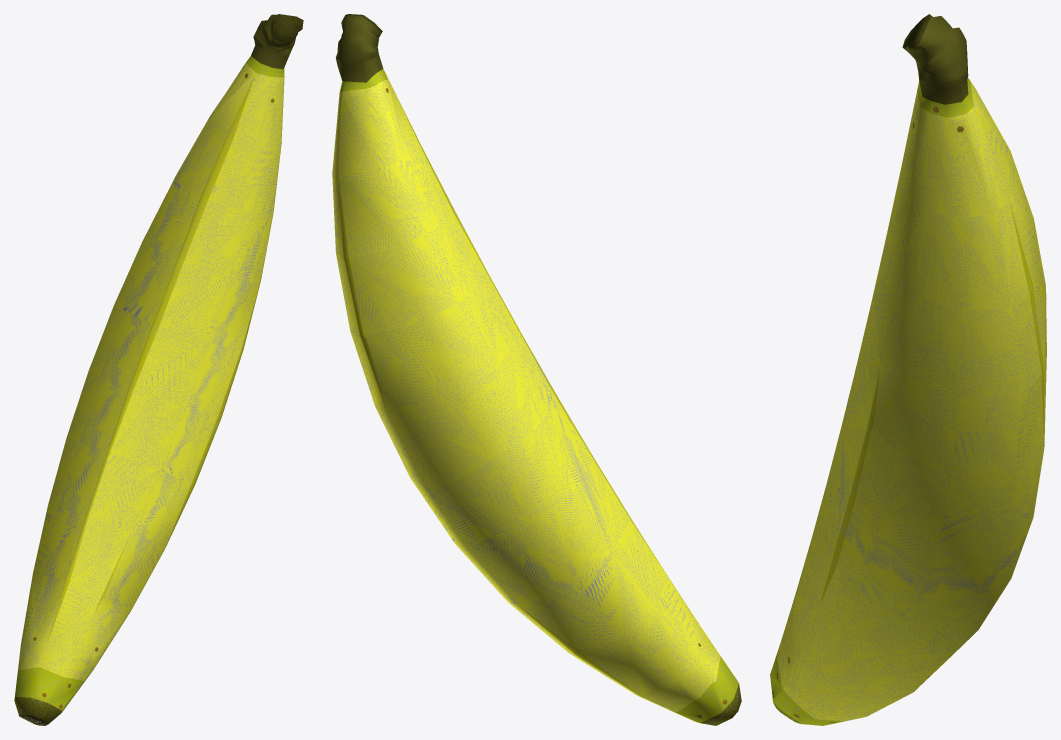
The picture shows the model from 3 angles, left to right: view 1: azimuth 30°, elevation 25°; view 2: azimuth 150°, elevation 25°; view 3: azimuth 270°, elevation 25°; orthographic projection. The views are drawn at different scales.
Parts seen in each view (by area): view 1: SketchUp (×7); view 2: SketchUp (×5); view 3: SketchUp (×6).
Boxes of the visible parts, x1=… form: SketchUp (×7): x1=14, y1=14, x2=303, y2=723; SketchUp (×5): x1=332, y1=15, x2=738, y2=722; SketchUp (×6): x1=770, y1=16, x2=1046, y2=725.
Size of the model in its own units: 4.6 by 2.29 by 8.34.
